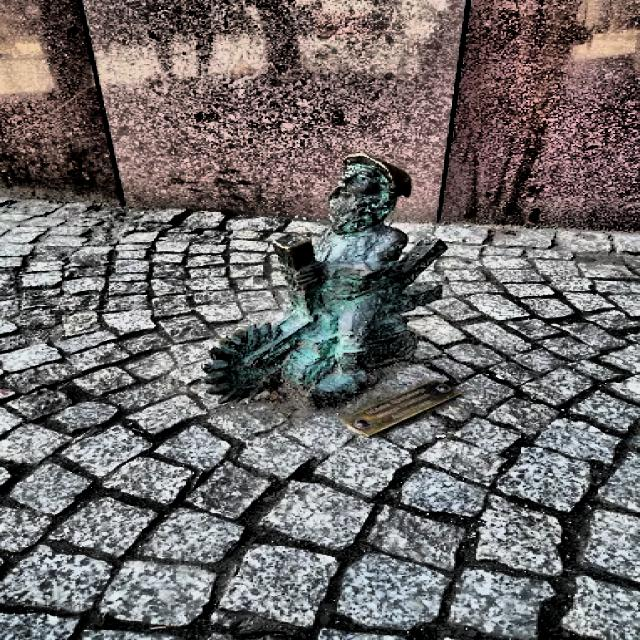Automatek: (204, 154, 444, 404)
